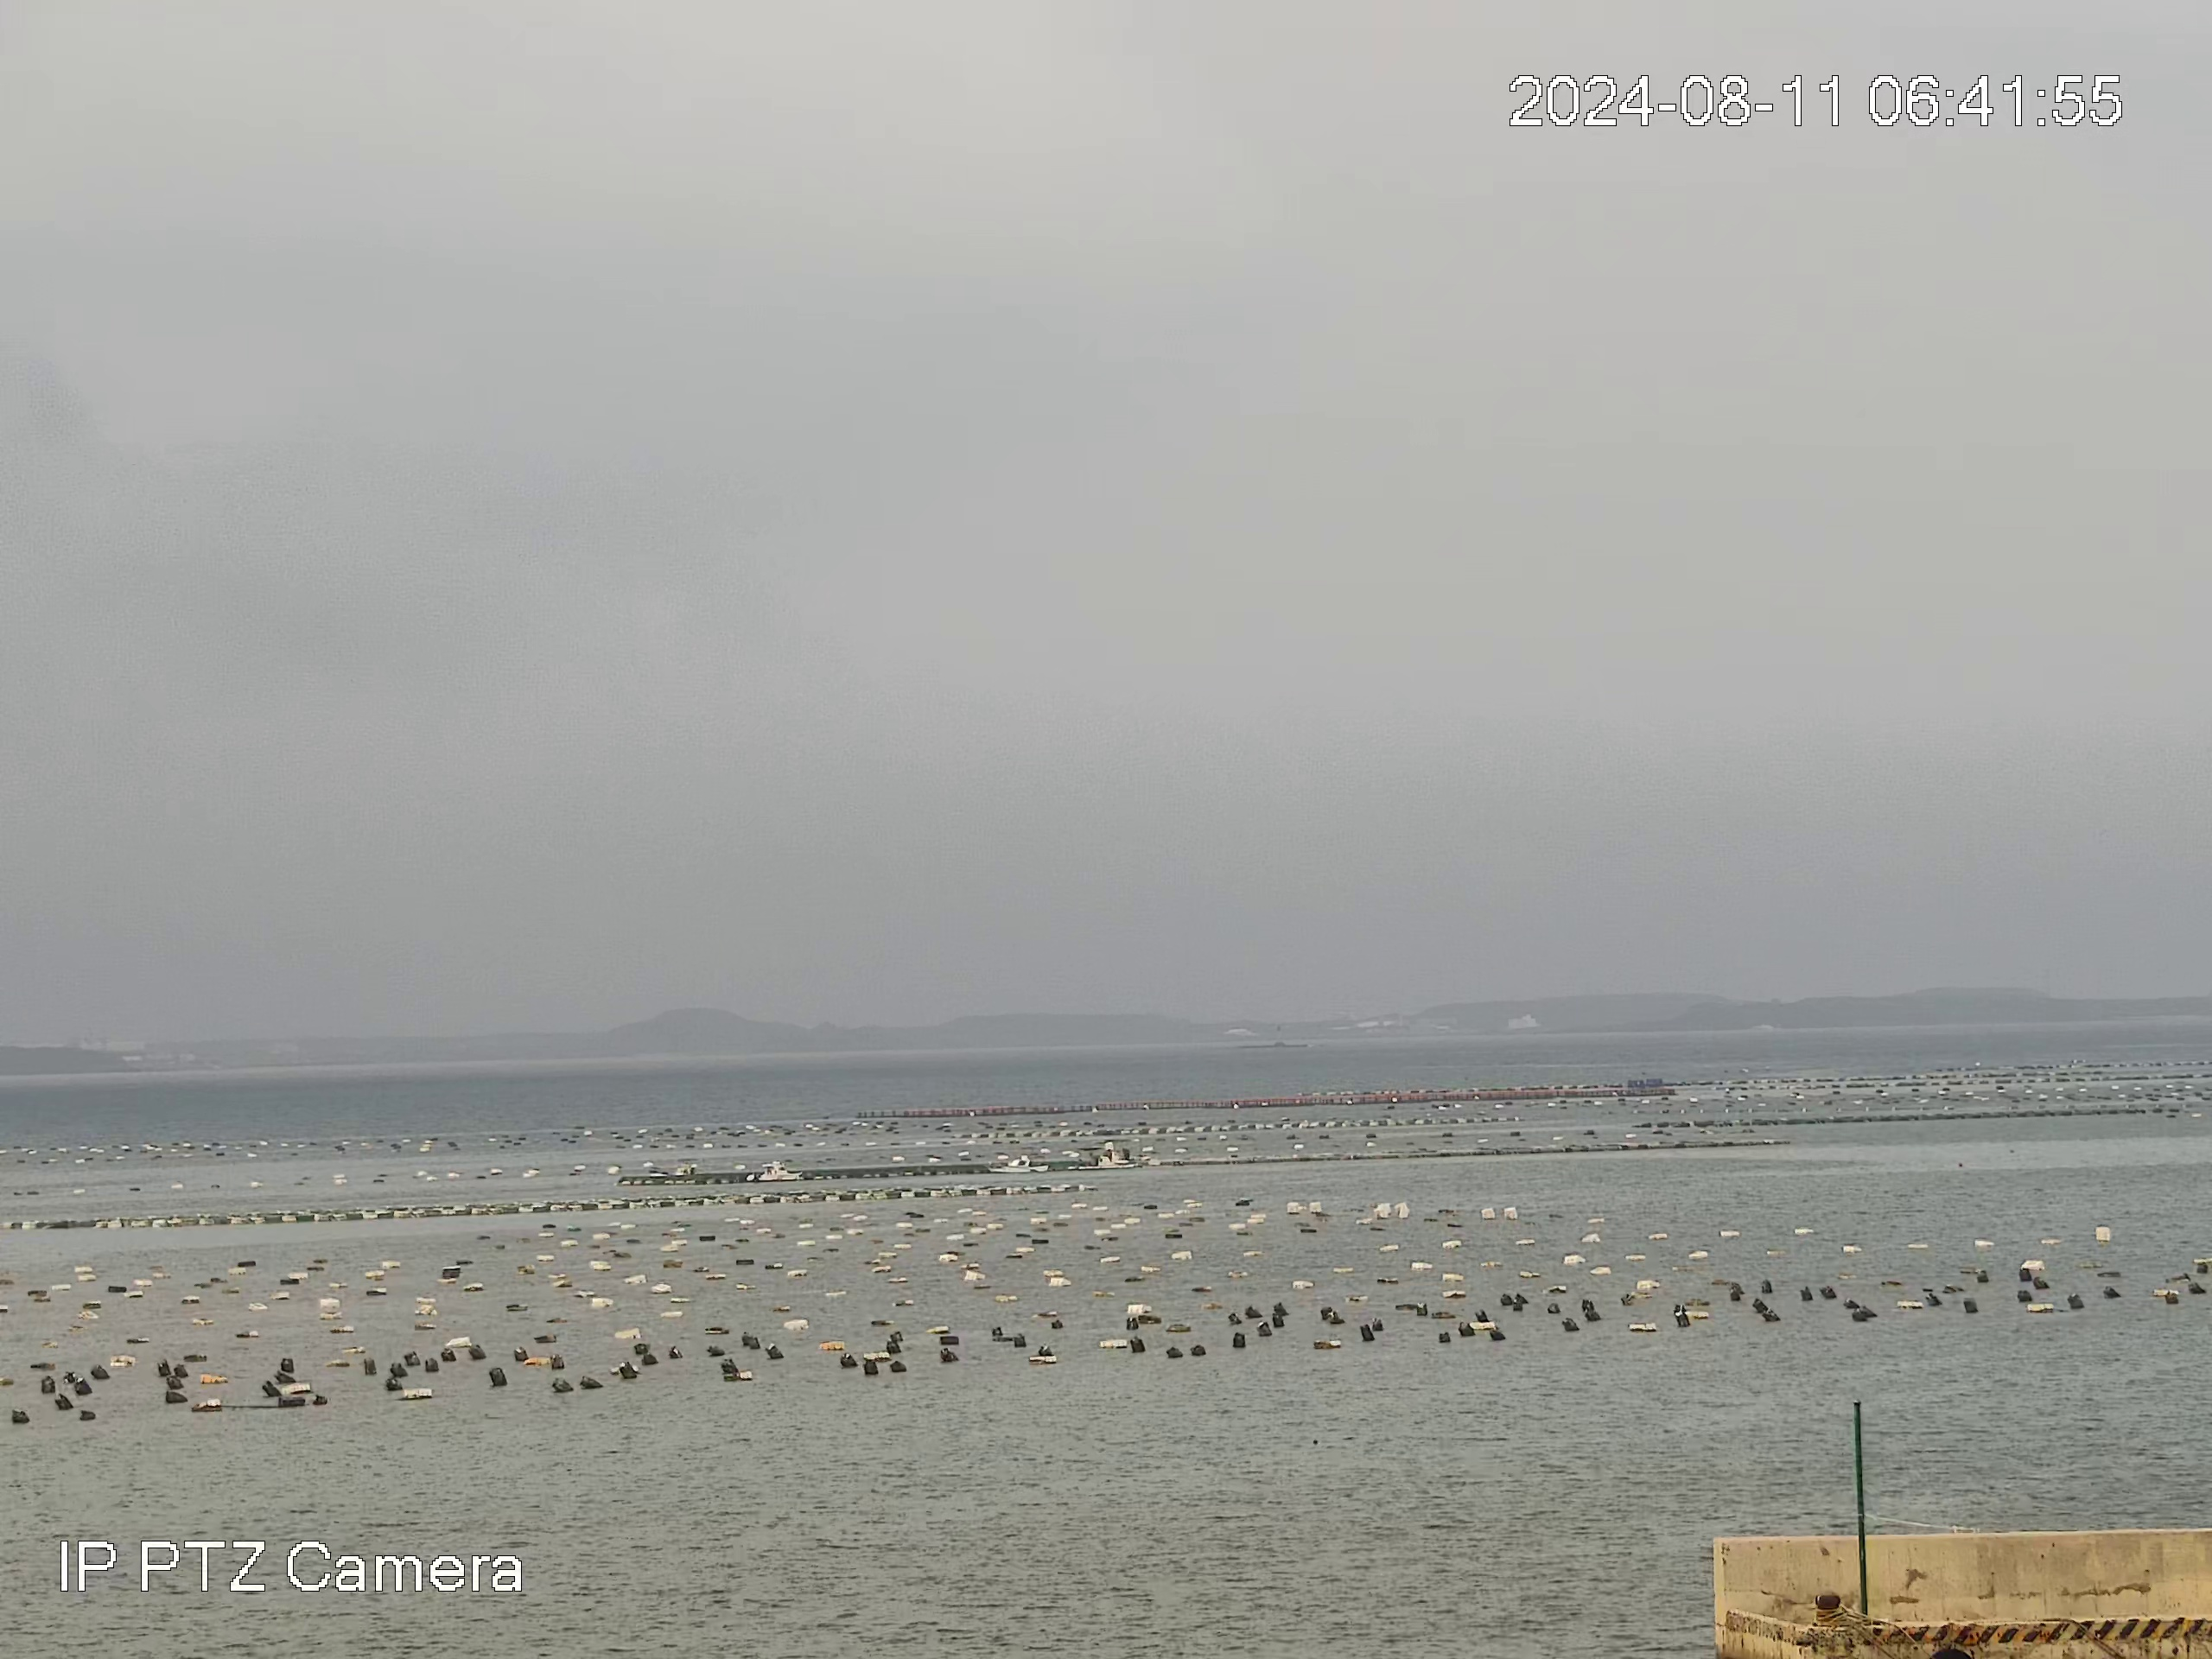boat: (745, 1159, 805, 1183), (982, 1154, 1049, 1175), (1064, 1150, 1120, 1171)
